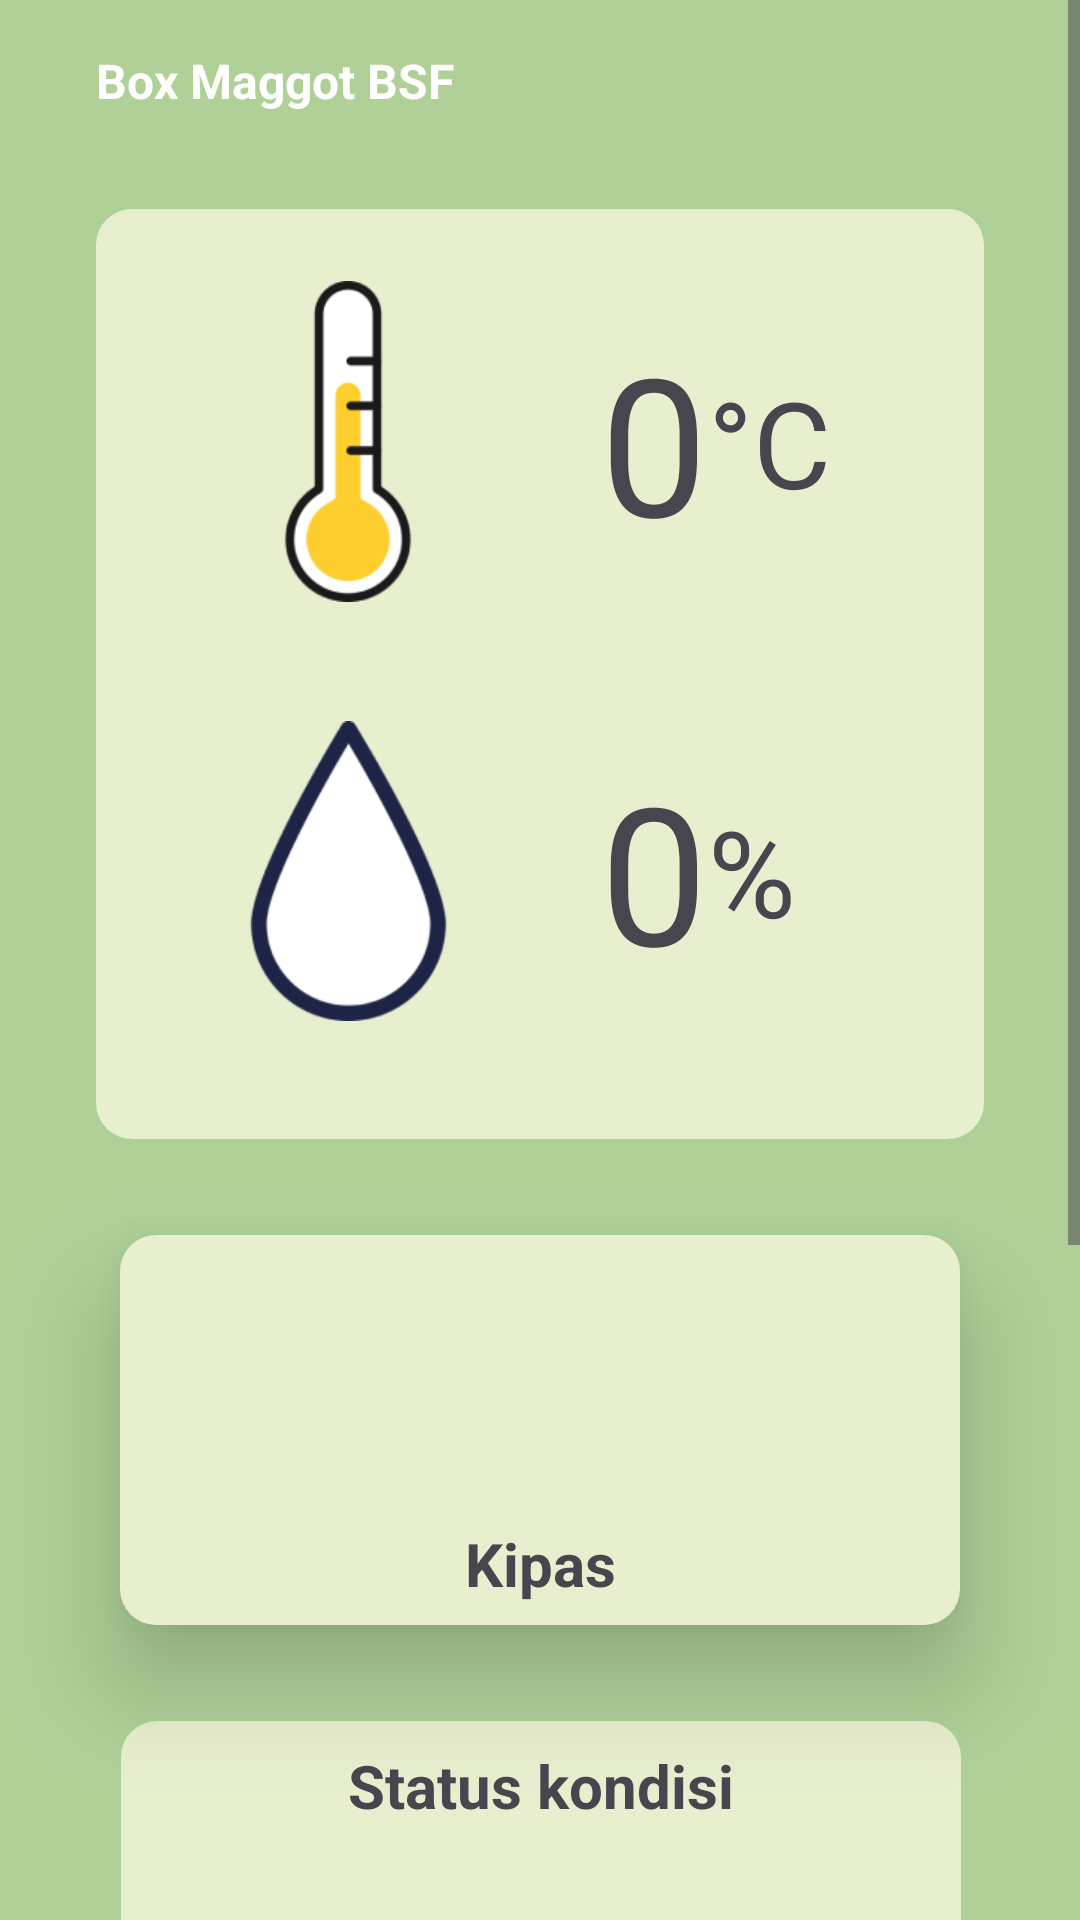

Icon bounding boxes for this 1080*1920 phone screenshot, format BBox(x1, y1, x2, y2):
humidity: BBox(250, 721, 447, 1021)
thermometer: BBox(285, 281, 411, 602)
